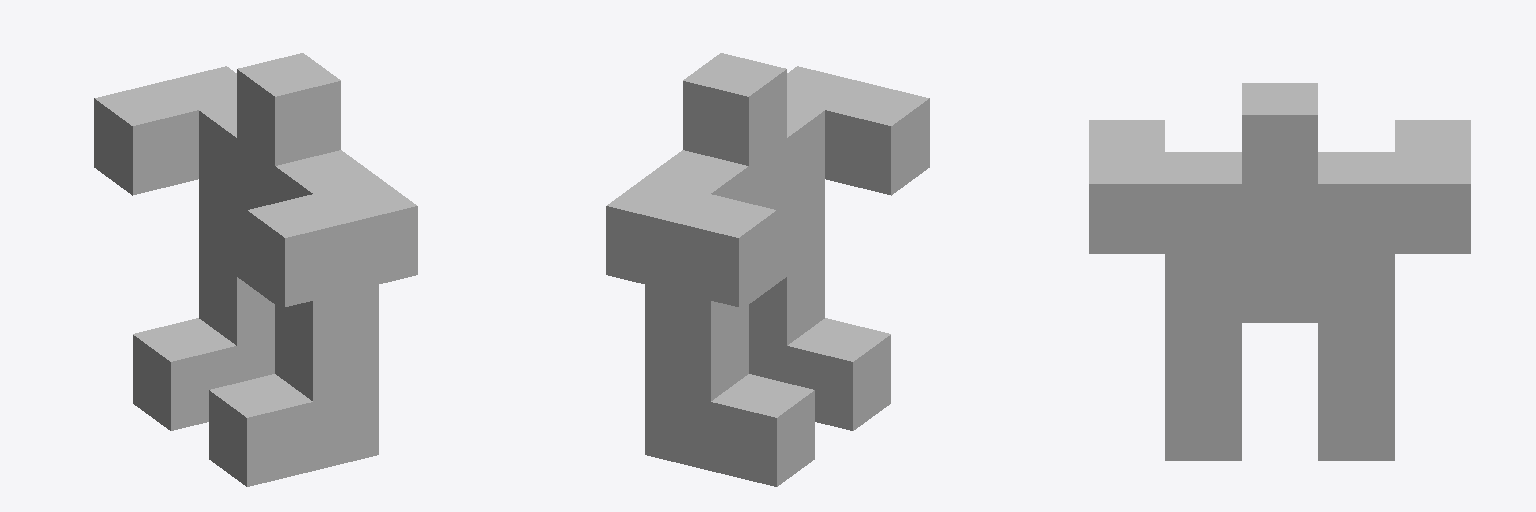
The model's file is warrior.obj.
The picture shows the model from 3 angles: view 1: azimuth 30°, elevation 25°; view 2: azimuth 150°, elevation 25°; view 3: azimuth 270°, elevation 25°; orthographic projection.
Parts seen in each view (by area): view 1: Brown_Wool; view 2: Brown_Wool; view 3: Brown_Wool.
Part boxes in pixels (left/top/right/bottom): Brown_Wool: left=94, top=53, right=417, bottom=486; Brown_Wool: left=606, top=53, right=929, bottom=486; Brown_Wool: left=1089, top=83, right=1470, bottom=460.
Size of the model in its own units: 0.2 by 0.5 by 0.5.